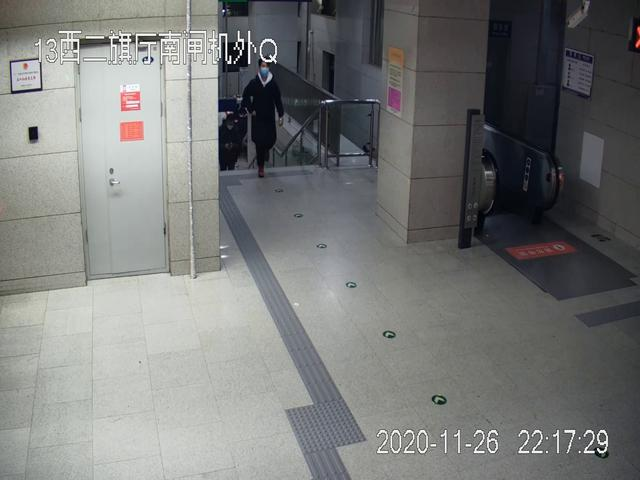person: (244, 55, 285, 178)
